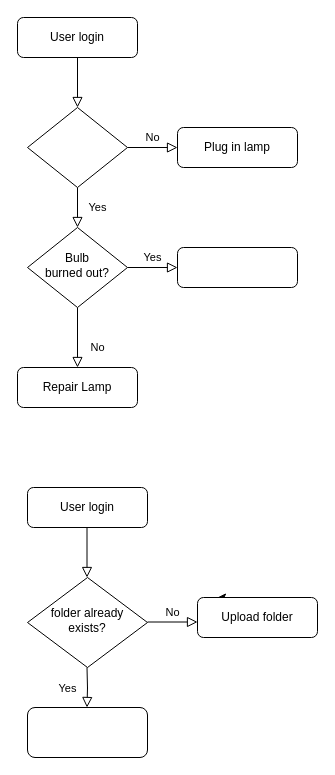
Some shapes in this 335 by 775 pixel diagram are drawn without their labels. Here are the shapes that lost their labels. From the top down, the centre of each, then its label:
(77,147): Lamp plugged in?
(237,267): Replace Bulb
(87,732): Select folder download
